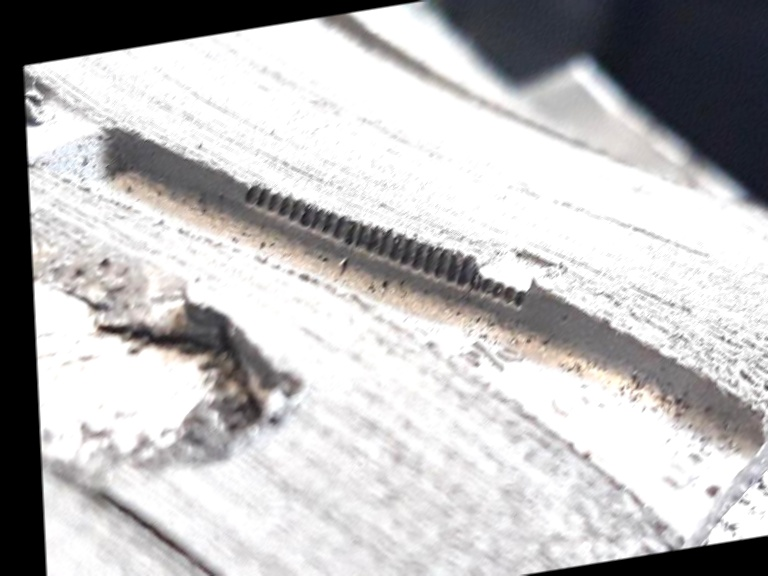temoin:0: (420, 190, 572, 338)
